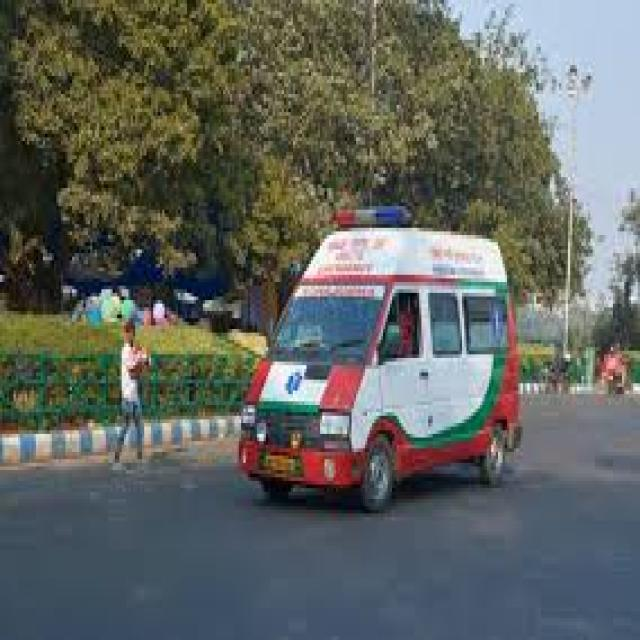emergency: (236, 200, 428, 518)
